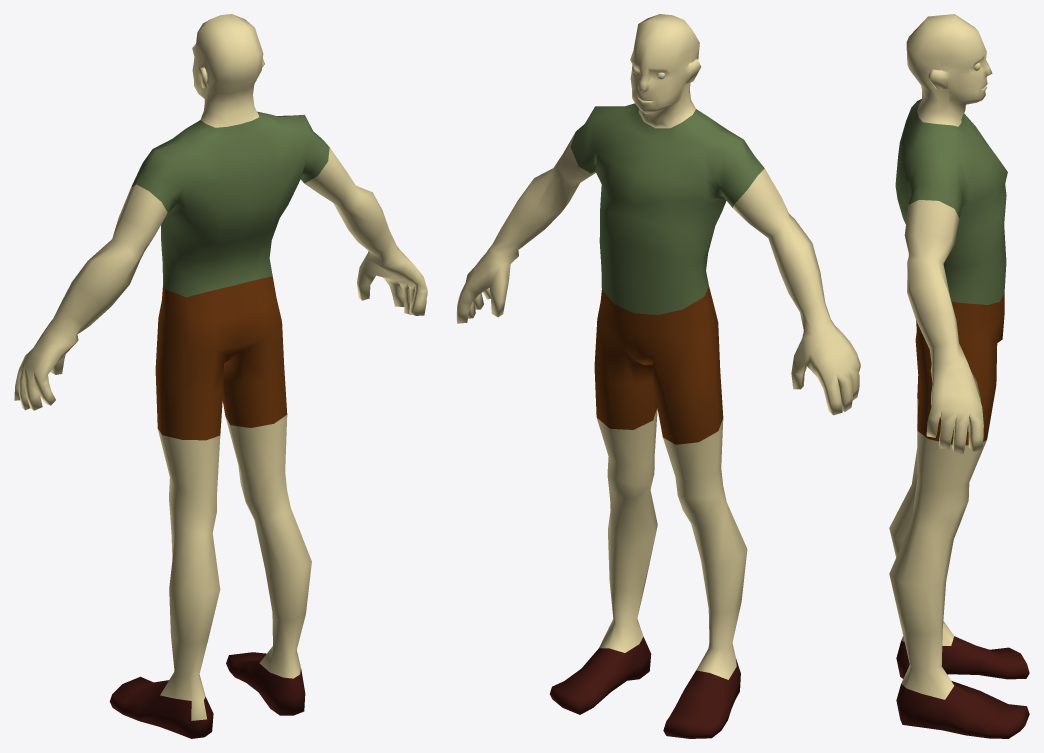
Rendered from Perso_CH.fbx.
The picture shows the model from 3 angles, left to right: view 1: azimuth 30°, elevation 25°; view 2: azimuth 150°, elevation 25°; view 3: azimuth 270°, elevation 25°; orthographic projection. The views are drawn at different scales.
Visible parts, largest first — view 1: Low Poly Characte.000; view 2: Low Poly Characte.000; view 3: Low Poly Characte.000.
Boxes of the visible parts, x1=… form: Low Poly Characte.000: x1=14, y1=14, x2=427, y2=738; Low Poly Characte.000: x1=456, y1=14, x2=860, y2=738; Low Poly Characte.000: x1=889, y1=14, x2=1029, y2=738.
Bounding box in the file's own units: 3.58 × 5.96 × 1.11.
